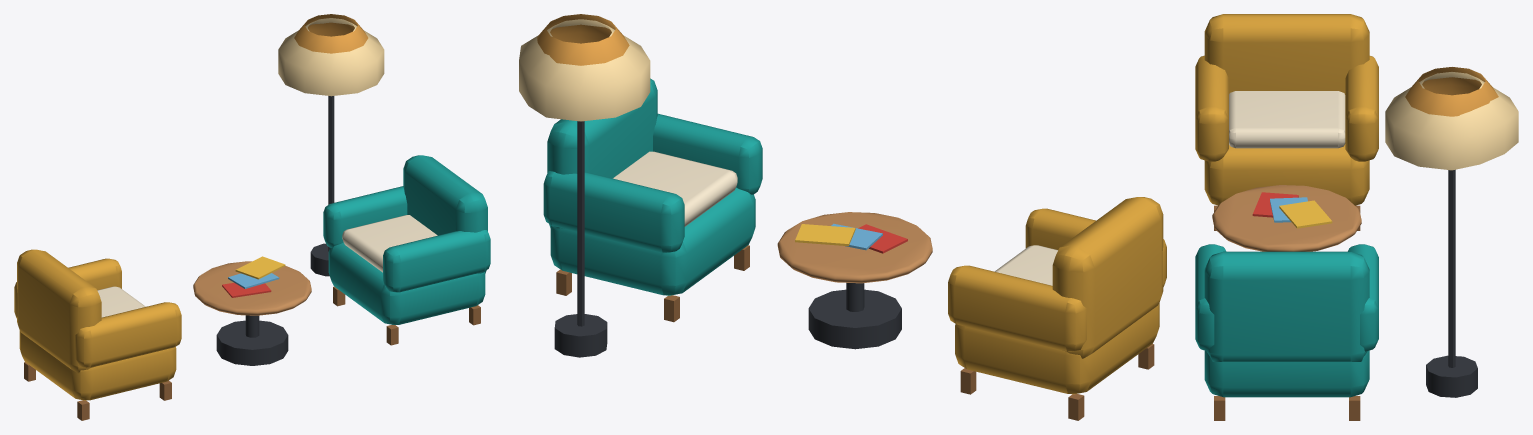
File: RinconLounge.fbx
The picture shows the model from 3 angles, left to right: view 1: azimuth 30°, elevation 25°; view 2: azimuth 150°, elevation 25°; view 3: azimuth 270°, elevation 25°; orthographic projection. The views are drawn at different scales.
Parts seen in each view (by area): view 1: RinconLounge; view 2: RinconLounge; view 3: RinconLounge.
Part boxes in pixels (x1,y1,x2,y2): RinconLounge: (14, 14, 490, 420); RinconLounge: (519, 14, 1166, 420); RinconLounge: (1195, 14, 1518, 420).
Bounding box in the file's own units: 8.1 × 4.5 × 4.32.
Materials: 1 (1 with a texture image).
